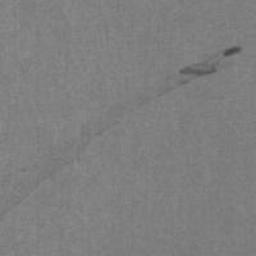Water spot: (0, 44, 247, 230)
